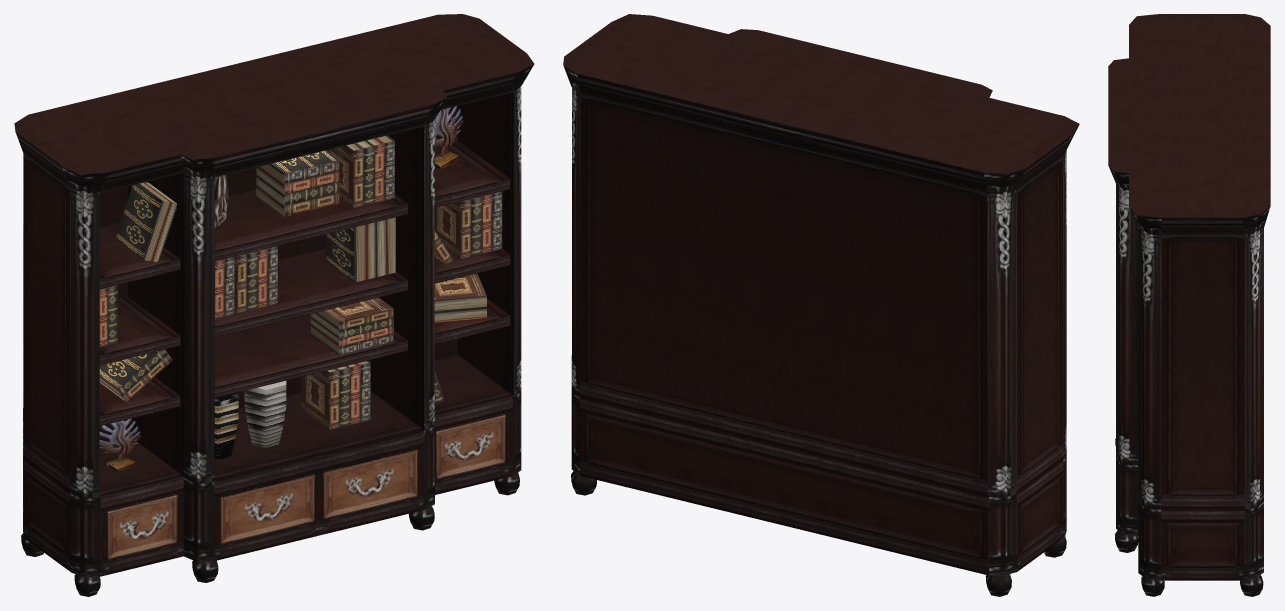
The model's file is furni_0201219.FBX.
3 renders of one model, left to right at view 1: azimuth 30°, elevation 25°; view 2: azimuth 150°, elevation 25°; view 3: azimuth 270°, elevation 25°, orthographic. The views are drawn at different scales.
Visible parts, largest first — view 1: furni_0201219; view 2: furni_0201219; view 3: furni_0201219.
Boxes of the visible parts, left/top/right/bottom form: furni_0201219: left=14, top=14, right=534, bottom=596; furni_0201219: left=563, top=14, right=1079, bottom=596; furni_0201219: left=1108, top=14, right=1270, bottom=596.
Size of the model in its own units: 249 by 220 by 84.03.
Materials: 1 (1 with a texture image).
